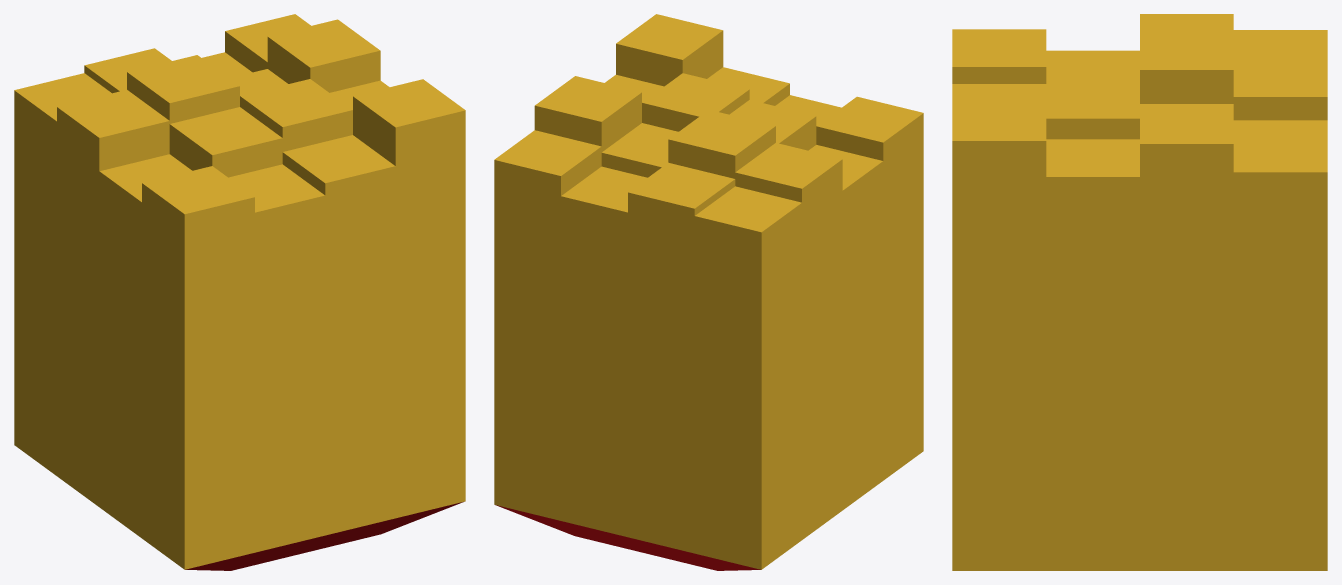
The model's file is fbx_head_plain.fbx.
3 renders of one model, left to right at view 1: azimuth 30°, elevation 25°; view 2: azimuth 150°, elevation 25°; view 3: azimuth 270°, elevation 25°, orthographic. The views are drawn at different scales.
Parts seen in each view (by area): view 1: sm_head_plain; view 2: sm_head_plain; view 3: sm_head_plain.
Boxes of the visible parts, x1,y1,x2,y2 form: sm_head_plain: [14, 14, 465, 570]; sm_head_plain: [494, 14, 923, 570]; sm_head_plain: [952, 14, 1327, 570].
Size of the model in its own units: 26.58 by 38.15 by 27.94.
